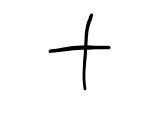plus: (49, 13, 111, 90)
